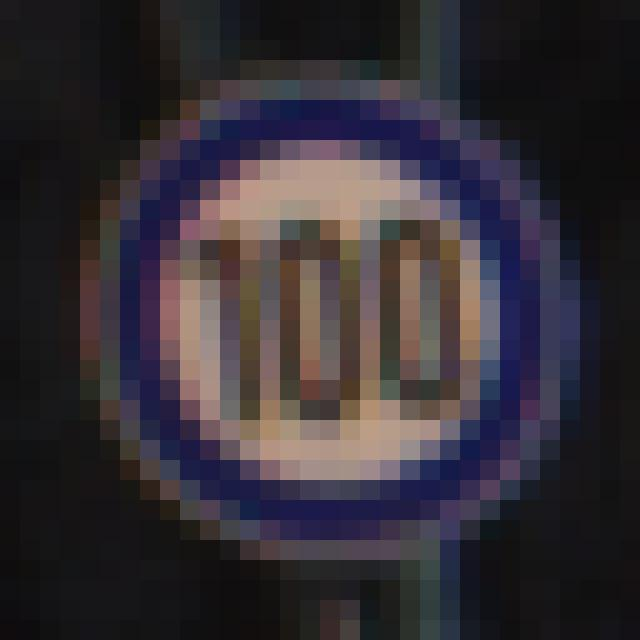SPEED LIMIT 100: (85, 91, 542, 544)
